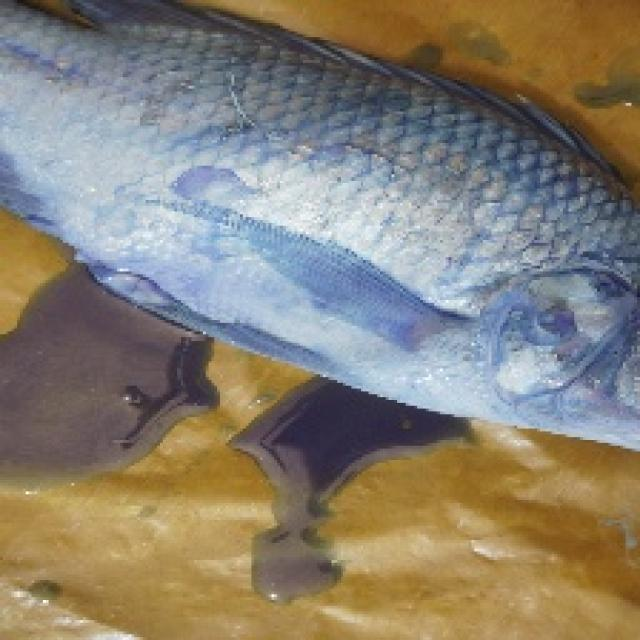Non-Fresh: (91, 8, 640, 406)
